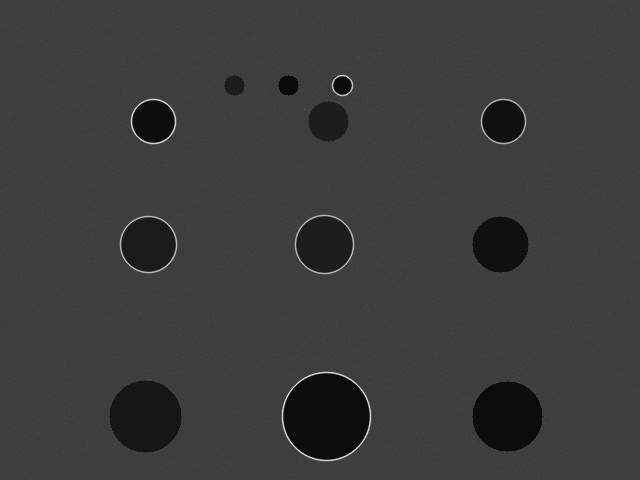hole: (282, 372, 370, 460), (109, 380, 181, 452), (472, 381, 542, 451), (295, 215, 353, 273), (120, 216, 176, 272), (472, 216, 528, 272), (131, 99, 175, 143), (481, 99, 525, 143), (308, 101, 348, 141), (224, 75, 244, 95), (278, 75, 298, 95), (332, 75, 352, 95)
